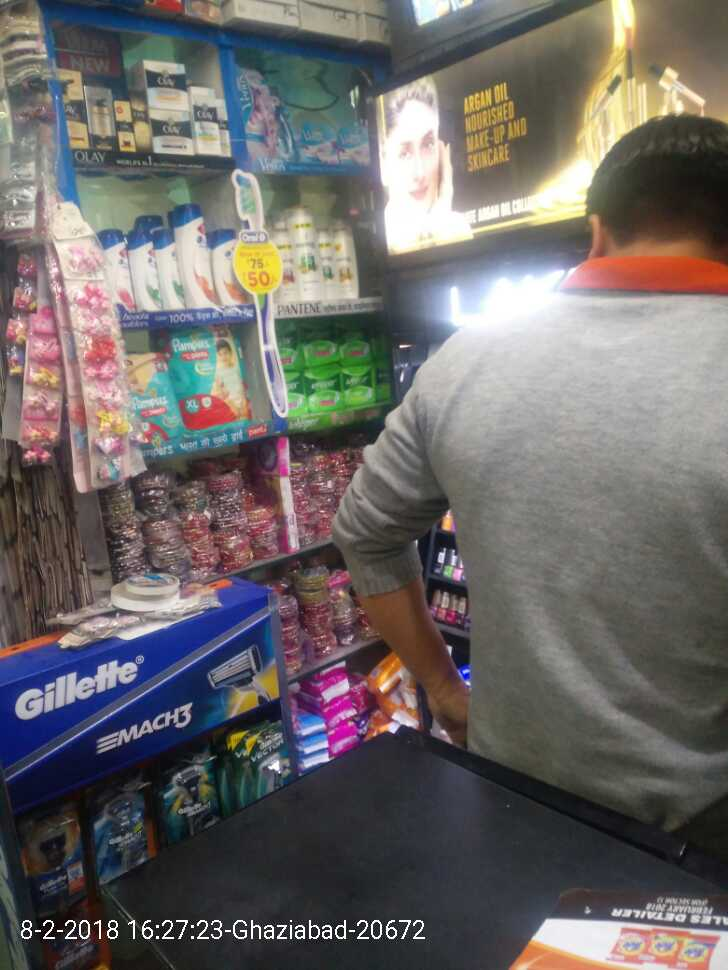gillete: (29, 800, 83, 919), (90, 791, 148, 873), (229, 734, 300, 793), (156, 770, 219, 835)
venus: (246, 72, 268, 154), (271, 95, 297, 158), (299, 122, 339, 160), (339, 125, 368, 160)
